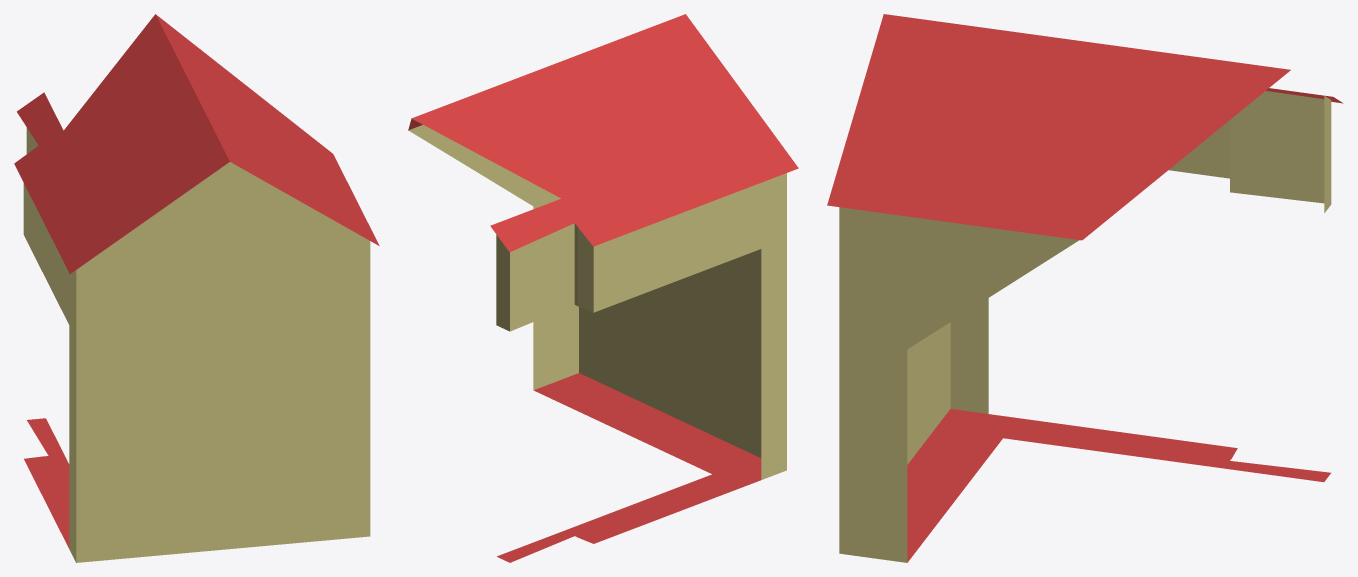
3 views of the same model, side by side, from view 1: azimuth 30°, elevation 25°; view 2: azimuth 150°, elevation 25°; view 3: azimuth 270°, elevation 25° (orthographic). The views are drawn at different scales.
Size of the model in its own units: 11.35 by 13.21 by 13.21.
